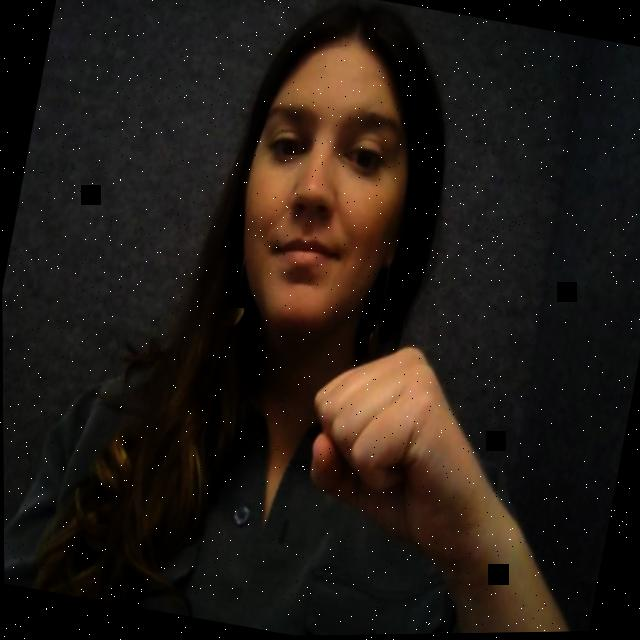Rock: (274, 330, 528, 580)
